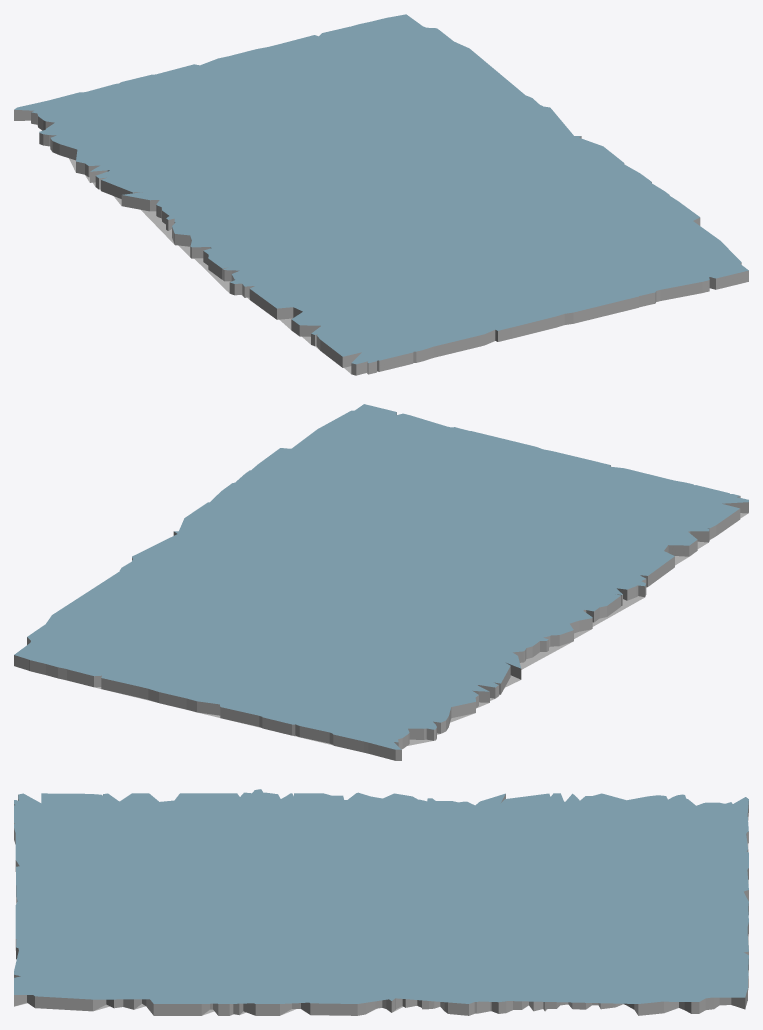
The model's file is Ice.fbx.
The picture shows the model from 3 angles, top to bottom: view 1: azimuth 30°, elevation 25°; view 2: azimuth 150°, elevation 25°; view 3: azimuth 270°, elevation 25°; orthographic projection. The views are drawn at different scales.
Visible parts, largest first — view 1: Ice; view 2: Ice; view 3: Ice.
Part boxes in pixels (x1,y1,x2,y2): Ice: (14,14,748,375); Ice: (14,404,748,760); Ice: (14,789,748,1015).
Bounding box in the file's own units: 779 × 20 × 1125.
